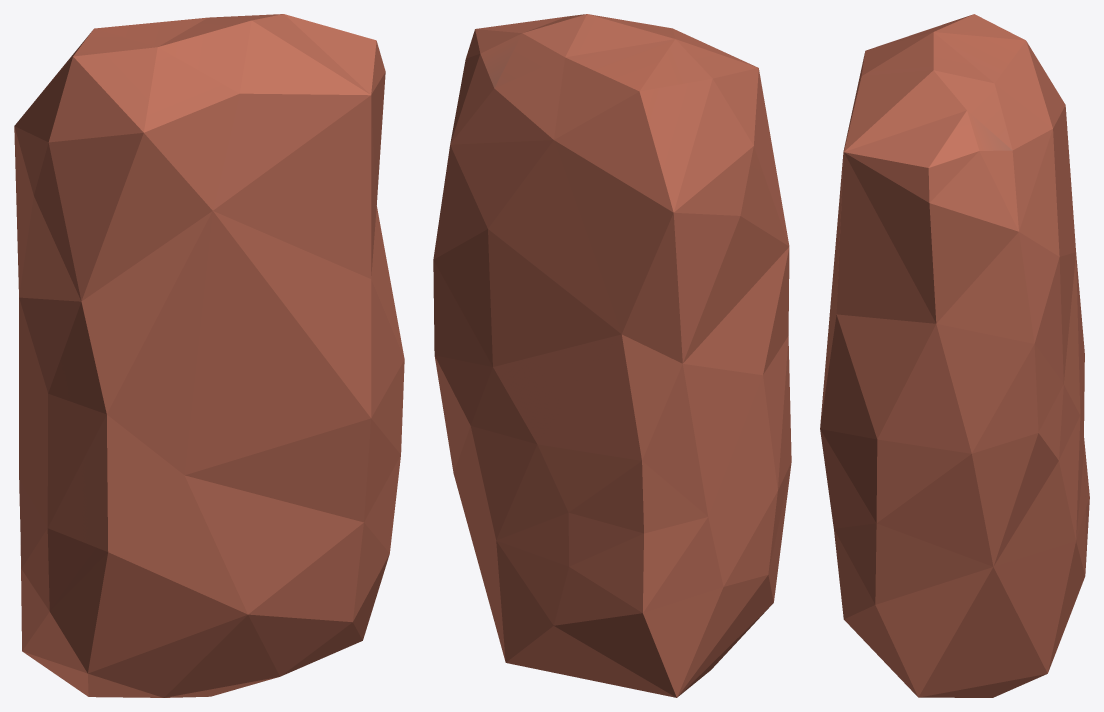
The model's file is boulder_008.fbx.
The picture shows the model from 3 angles, left to right: view 1: azimuth 30°, elevation 25°; view 2: azimuth 150°, elevation 25°; view 3: azimuth 270°, elevation 25°; orthographic projection. The views are drawn at different scales.
Parts seen in each view (by area): view 1: boulder_008; view 2: boulder_008; view 3: boulder_008.
Part boxes in pixels (left/top/right/bottom): boulder_008: left=14, top=14, right=404, bottom=697; boulder_008: left=433, top=14, right=791, bottom=697; boulder_008: left=820, top=14, right=1089, bottom=697.
Size of the model in its own units: 678 by 519 by 1289.
